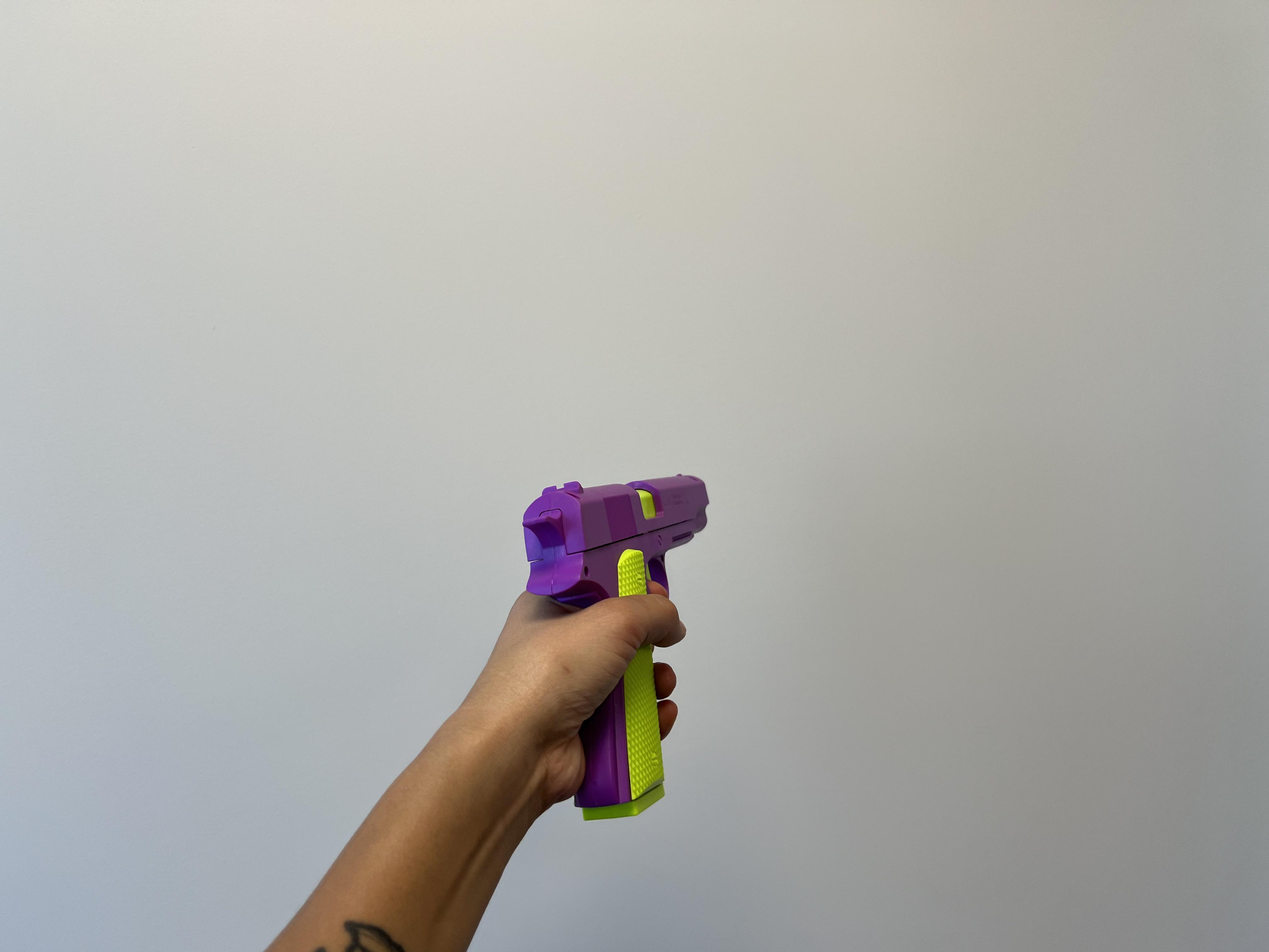Knife: (222, 586, 688, 952), (510, 471, 724, 828), (485, 581, 685, 811)
